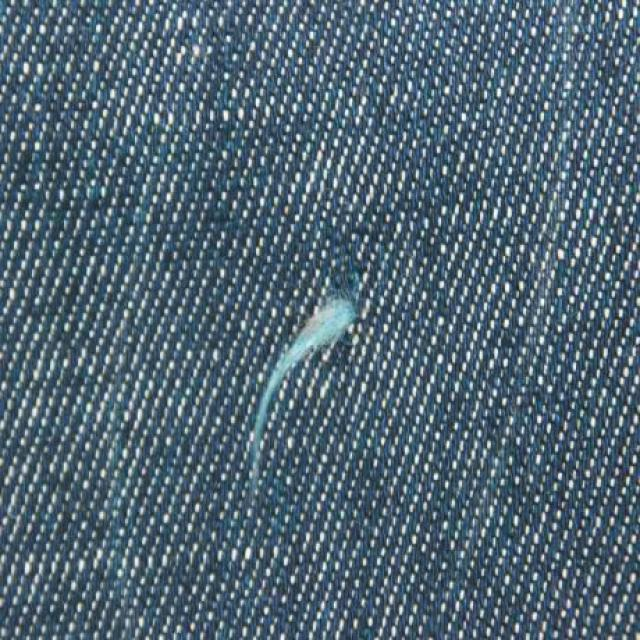Thread_other: (180, 244, 410, 519)
